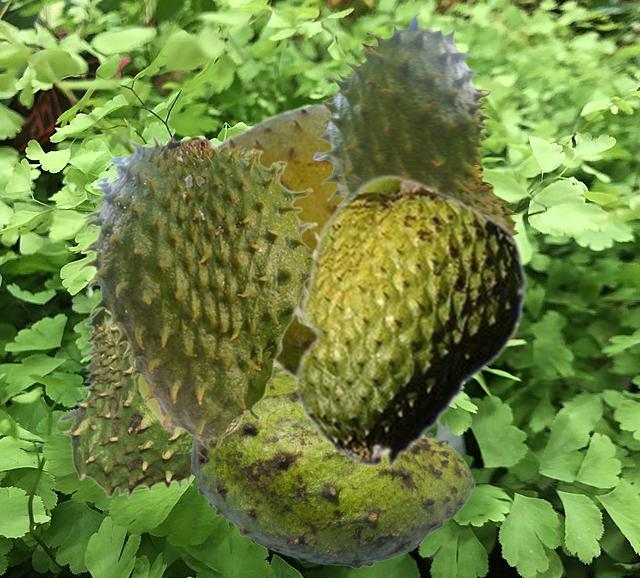guyabano: (76, 134, 318, 449), (290, 173, 528, 471), (188, 367, 474, 568), (313, 13, 518, 234), (188, 102, 342, 379), (58, 310, 194, 498)
